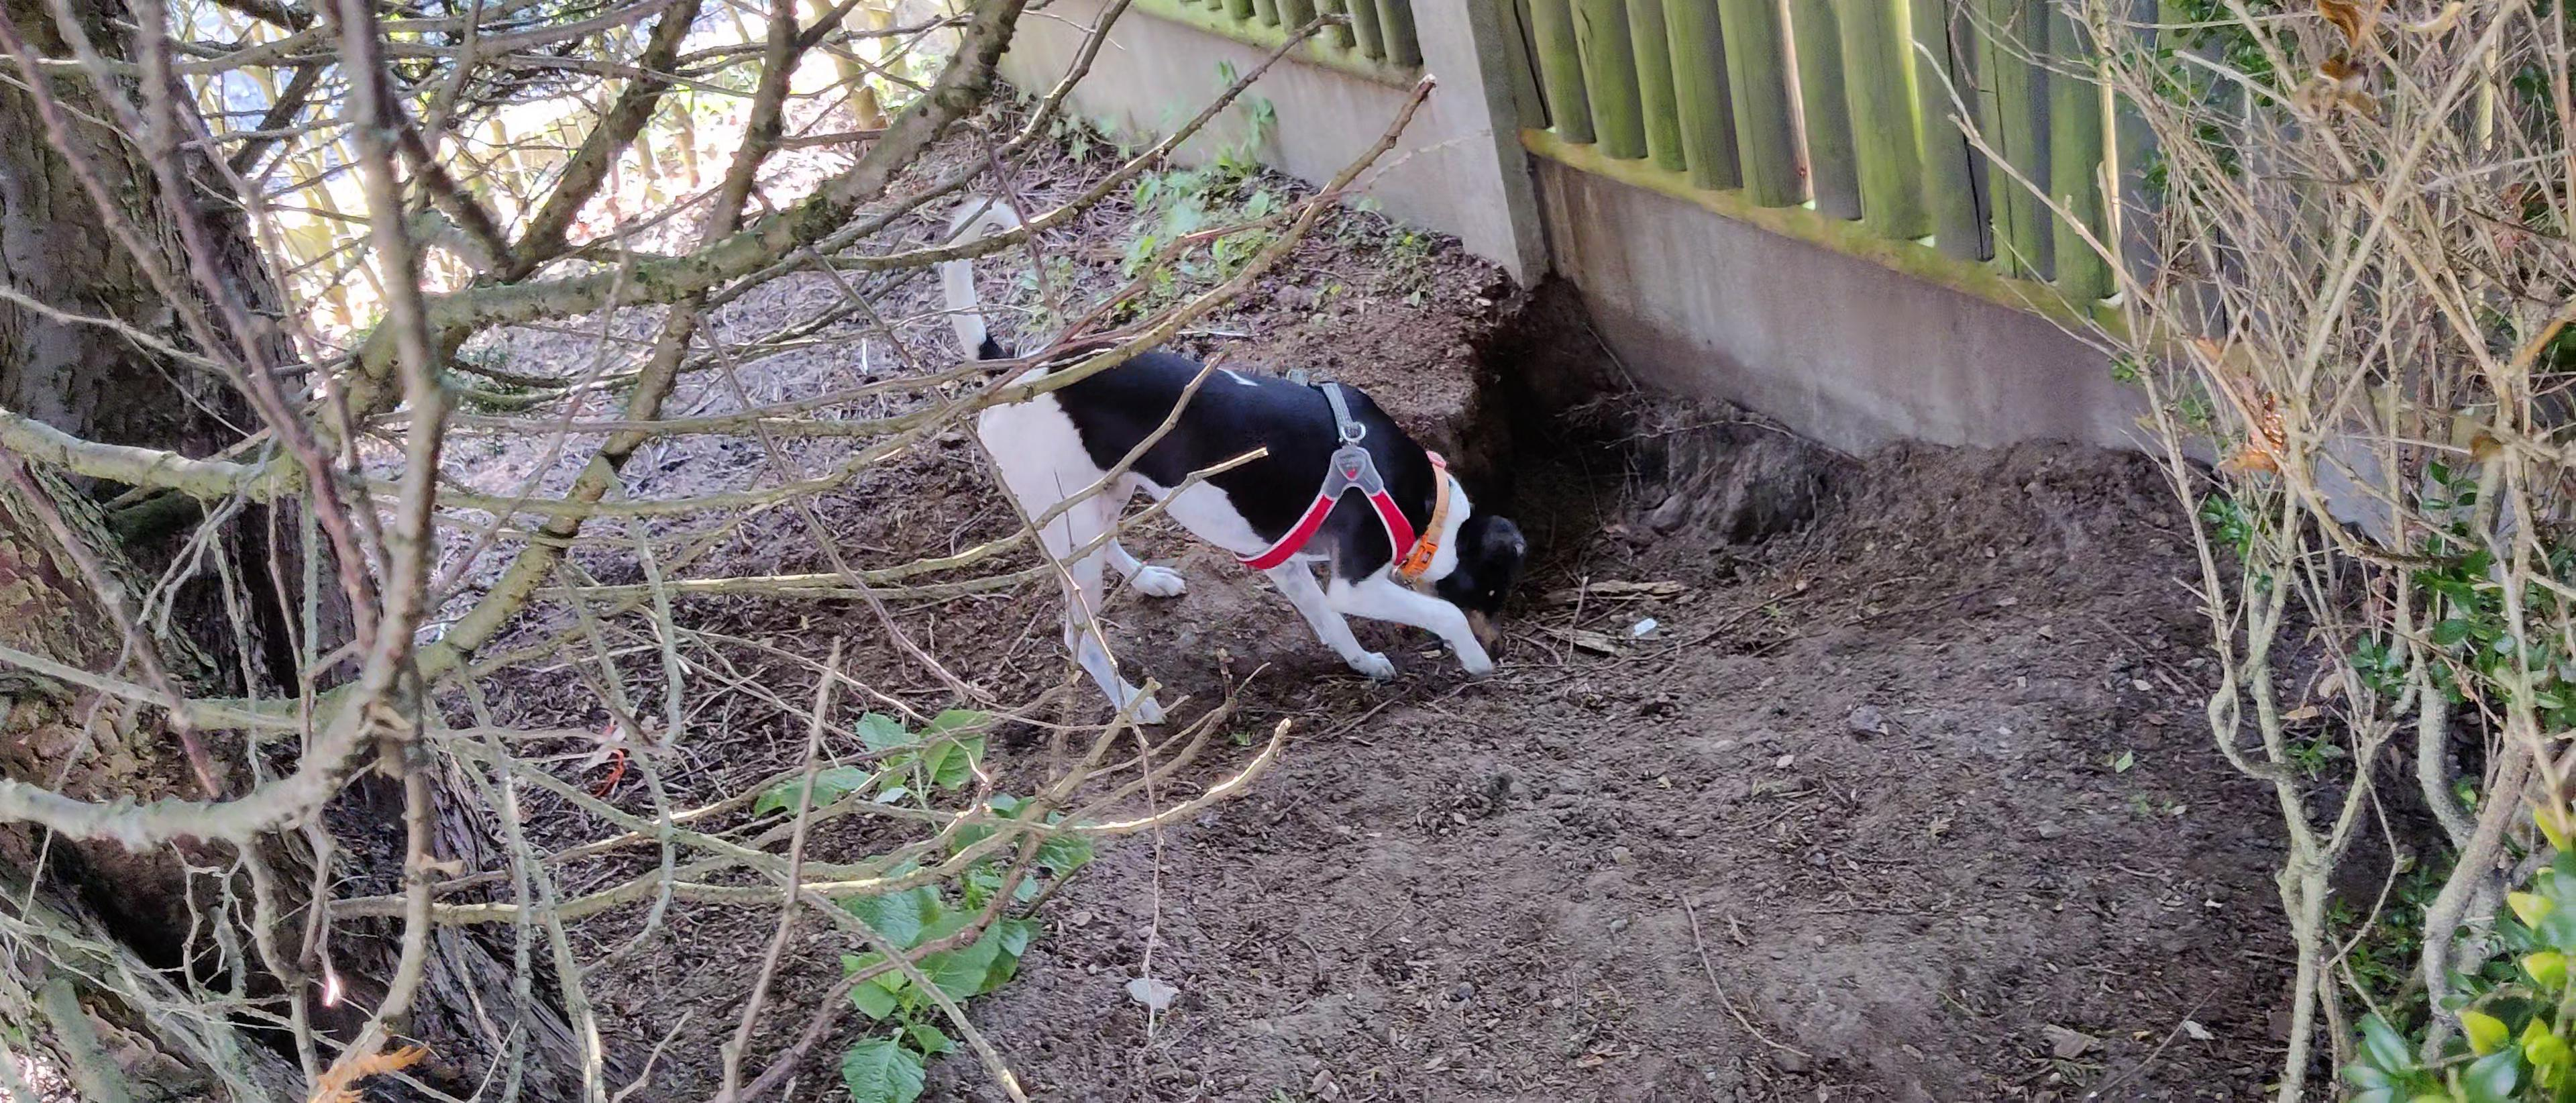Dog: (930, 194, 1534, 730)
